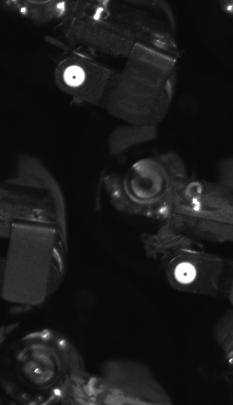fiber: (171, 260, 203, 286), (59, 62, 87, 88)
